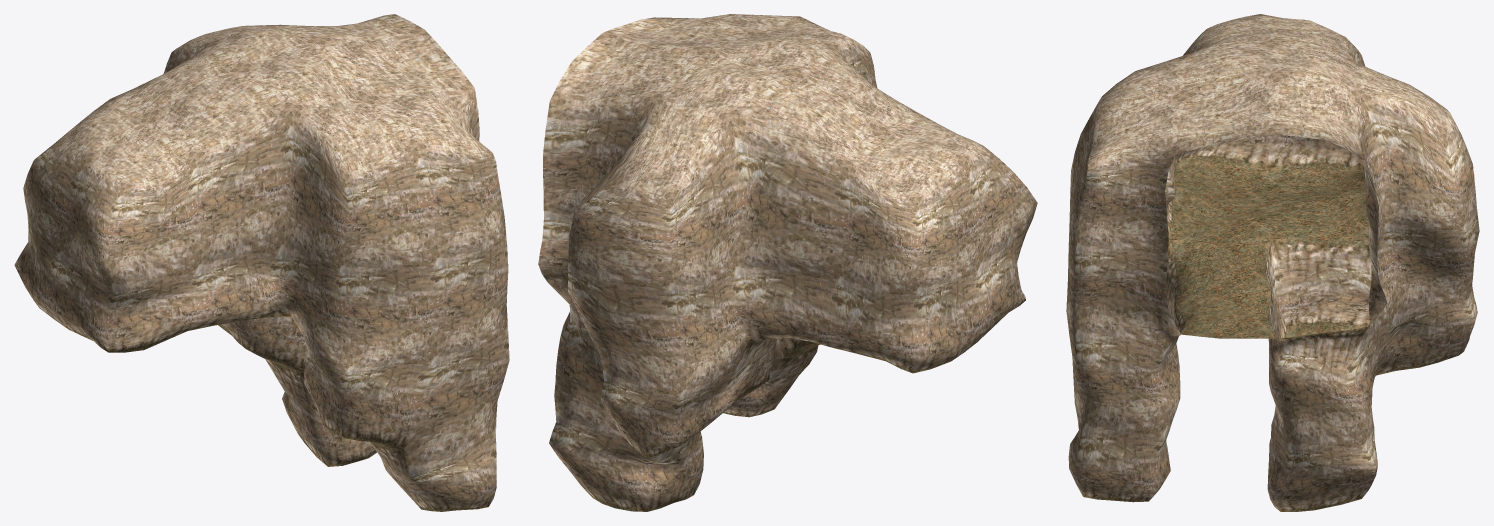
The model's file is thm_all_cave_s02_mirror_r9_mesh_r9.fbx.
3 renders of one model, left to right at view 1: azimuth 30°, elevation 25°; view 2: azimuth 150°, elevation 25°; view 3: azimuth 270°, elevation 25°, orthographic. The views are drawn at different scales.
Parts seen in each view (by area): view 1: mesh_node; view 2: mesh_node; view 3: mesh_node.
Boxes of the visible parts, x1,y1,x2,y2 form: mesh_node: (14,14,509,511); mesh_node: (538,14,1037,511); mesh_node: (1066,14,1479,511).
Size of the model in its own units: 41.15 by 45.08 by 40.79.
